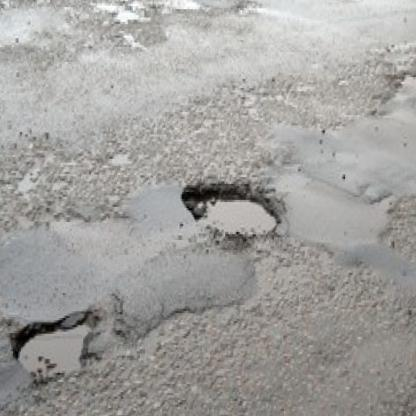pothole: (11, 303, 100, 389), (183, 180, 280, 246)
